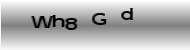8: (64, 16, 77, 30)
G: (91, 12, 106, 26)
W: (30, 15, 52, 28)
d: (119, 6, 134, 21)
h: (51, 13, 64, 27)
